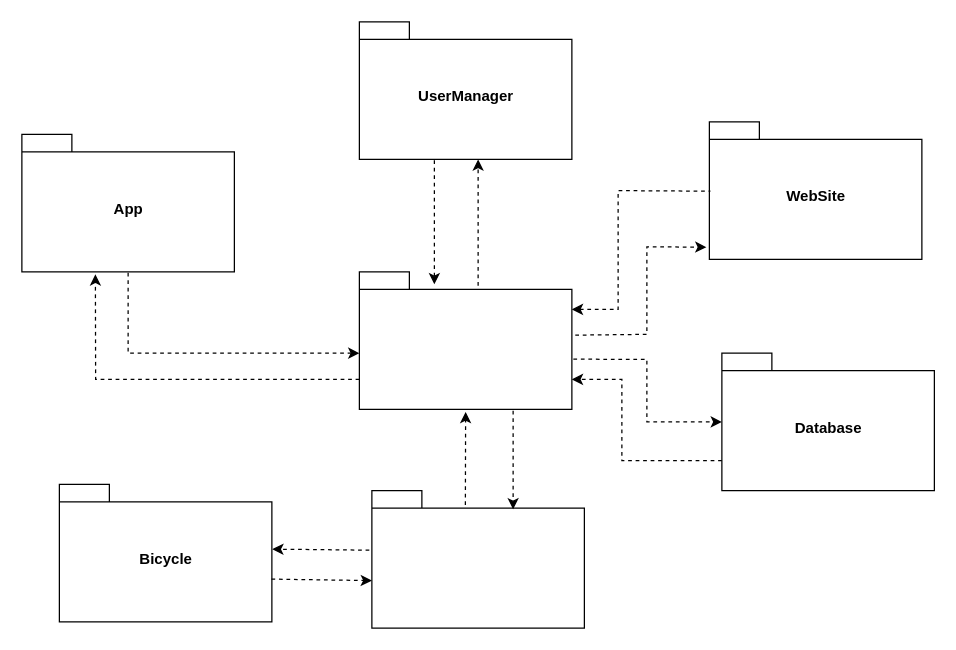
Image size: 956x650. Some labels were removed from this diagram. The shapes that lost their labels are listed below. From the top down, each one's box as (x1, y1, x2, y2) in pixels, then its label:
(358, 271, 572, 409): Server
(371, 489, 584, 628): Computation
